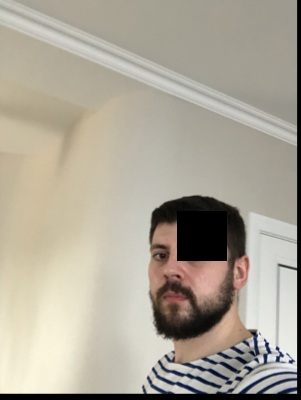without_mask: (148, 229, 221, 342)
